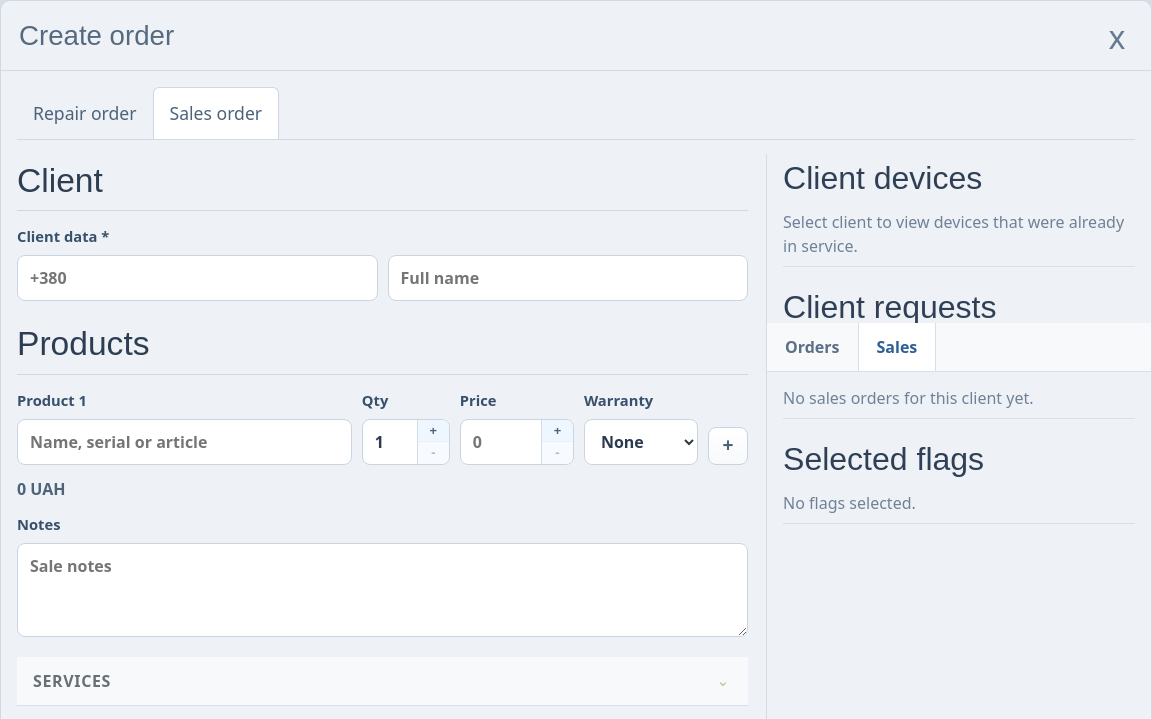
Test: CreateOrderCard › resolves catalog suggestion to stock by name and prefills retail price
Type "Videx" into the field with placeholder "Name, serial or article" at (184, 442), box [17,419,352,465]
Wait 400 ms
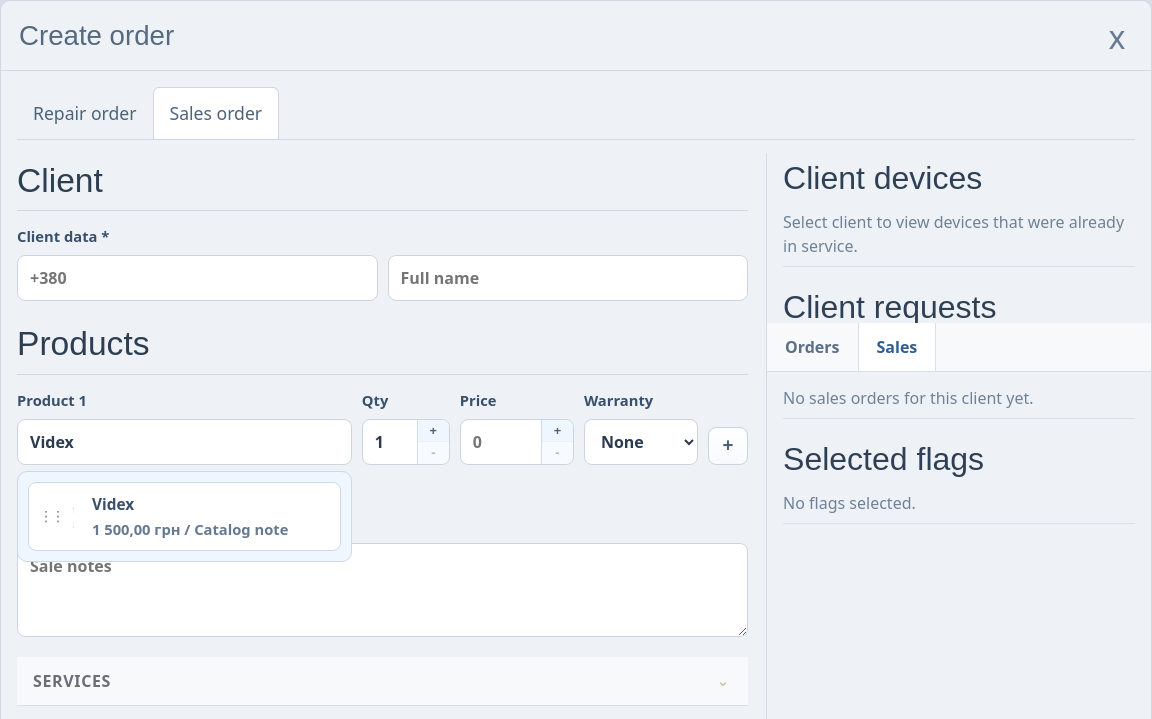
Now the button "Videx 1 500,00 грн / Catalog note" is shown
Click the button "Videx 1 500,00 грн / Catalog note" at (210, 516), box [88,487,332,546]
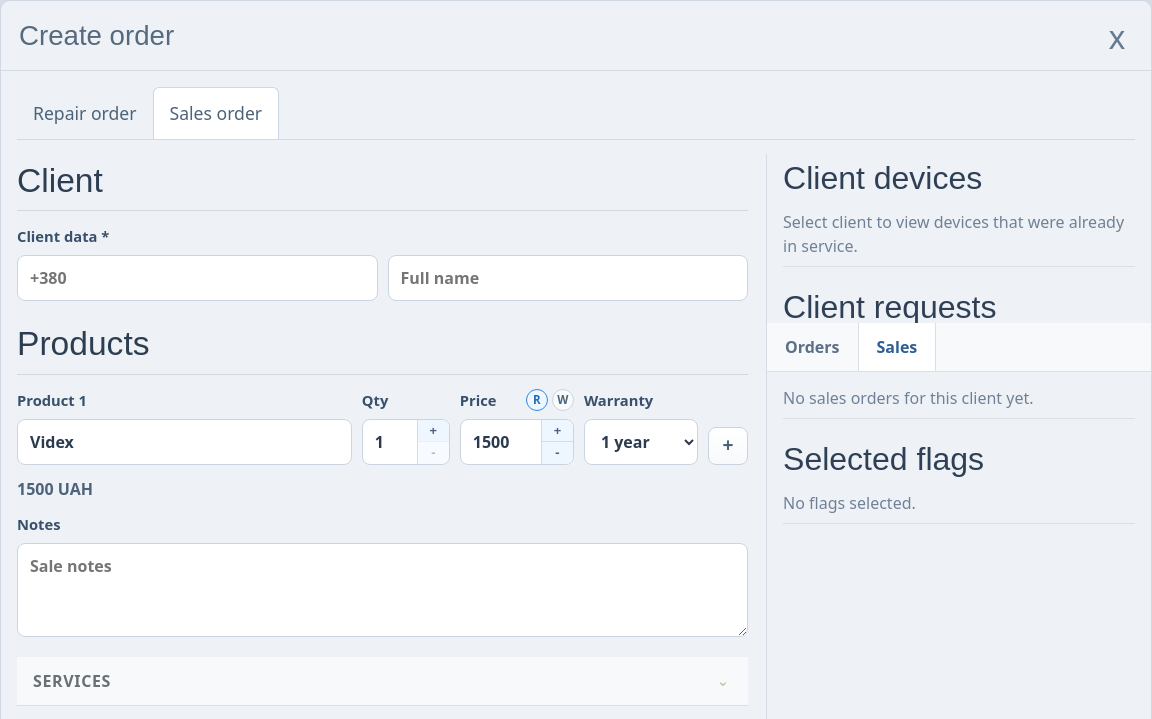
Now the field showing "1500" is shown, box [461,420,541,464]
Now the button named "Retail" is shown, box [526,389,548,411]
Now the button named "Wholesale" is shown, box [552,389,574,411]
